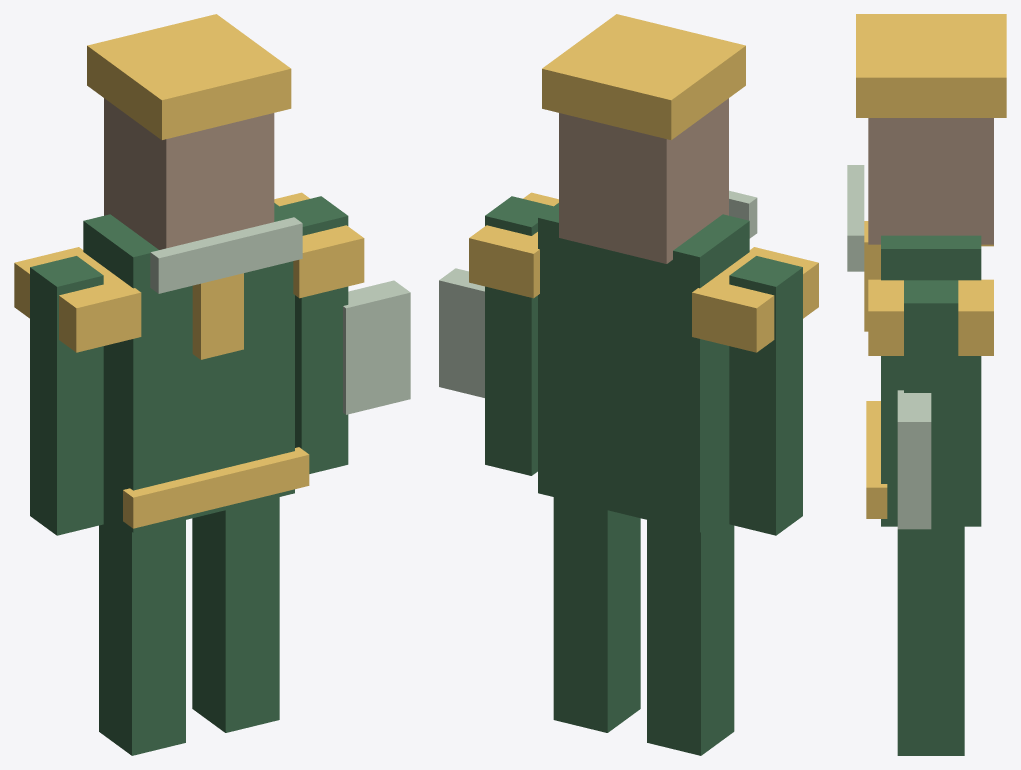
The model's file is 07_mirek_dubwater_warden_from_beast.glb.
The picture shows the model from 3 angles, left to right: view 1: azimuth 30°, elevation 25°; view 2: azimuth 150°, elevation 25°; view 3: azimuth 270°, elevation 25°; orthographic projection.
Visible parts, largest first — view 1: Mirek Dubwater, Warden from Beast; view 2: Mirek Dubwater, Warden from Beast; view 3: Mirek Dubwater, Warden from Beast.
Part boxes in pixels (bbox=[...]): Mirek Dubwater, Warden from Beast: bbox=[14, 14, 410, 755]; Mirek Dubwater, Warden from Beast: bbox=[439, 14, 818, 755]; Mirek Dubwater, Warden from Beast: bbox=[847, 14, 1006, 755].
Bounding box in the file's own units: 0.9348 × 1.7 × 0.3644.
